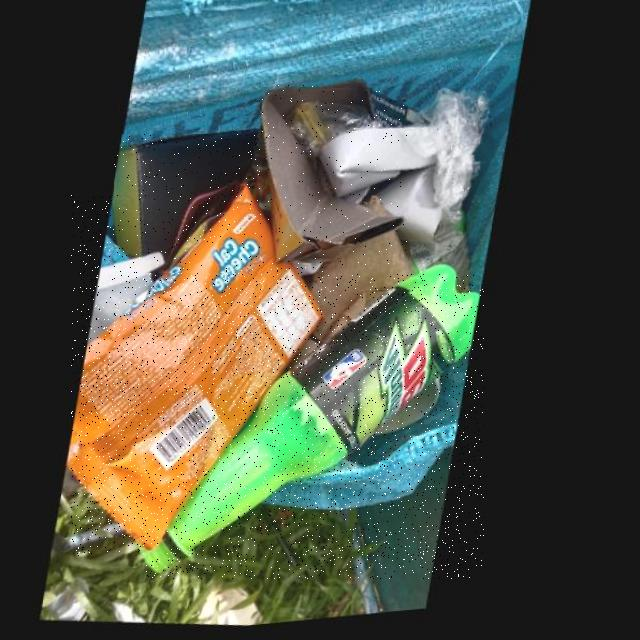paper: (261, 85, 407, 267), (115, 135, 261, 273)
plastic: (146, 275, 484, 579)
wrapper: (72, 195, 327, 556)
